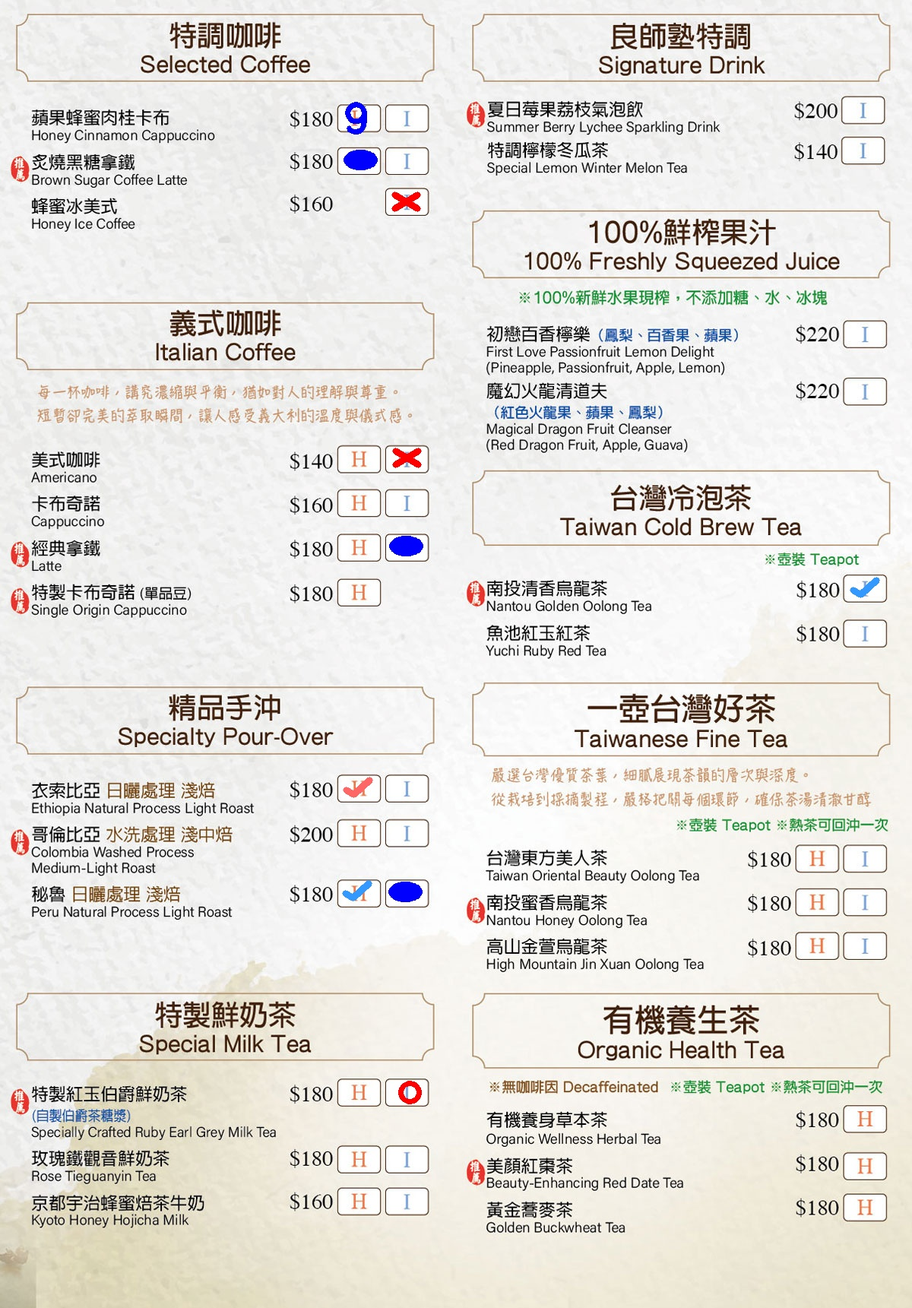marked_circle: (342, 149, 381, 173), (388, 535, 426, 559), (387, 881, 426, 904)
marked_hollow: (391, 1081, 429, 1104)
marked_number_9: (339, 106, 378, 129)
marked_tick: (846, 576, 885, 600), (338, 879, 377, 903), (339, 776, 378, 800)
marked_x: (387, 190, 426, 214), (388, 446, 426, 470)
